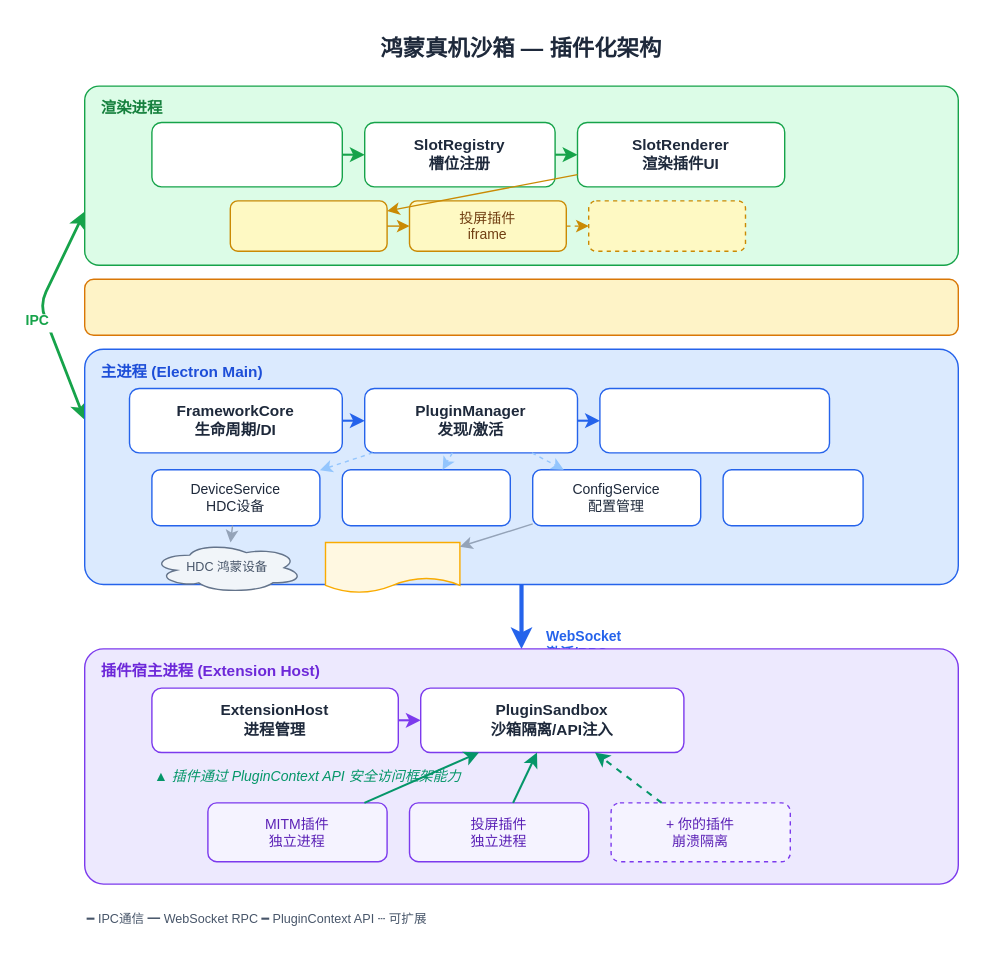
This 984x955 diagram has some shape labels left out. Each missing label, with the box of its shape:
+ 你的插件 iframe: (587, 200, 746, 251)
config.json: (324, 541, 460, 593)
EventService 事件总线: (341, 468, 510, 526)
MITM插件 iframe: (229, 200, 387, 251)
PluginContext API — 框架与插件唯一契约 device | ui | events | config | exec | fs | logger: (83, 278, 958, 335)
PluginHostServer WebSocket :9000: (598, 387, 830, 453)
React App 主界面: (150, 121, 342, 187)
UIService UI控制: (722, 468, 863, 526)
